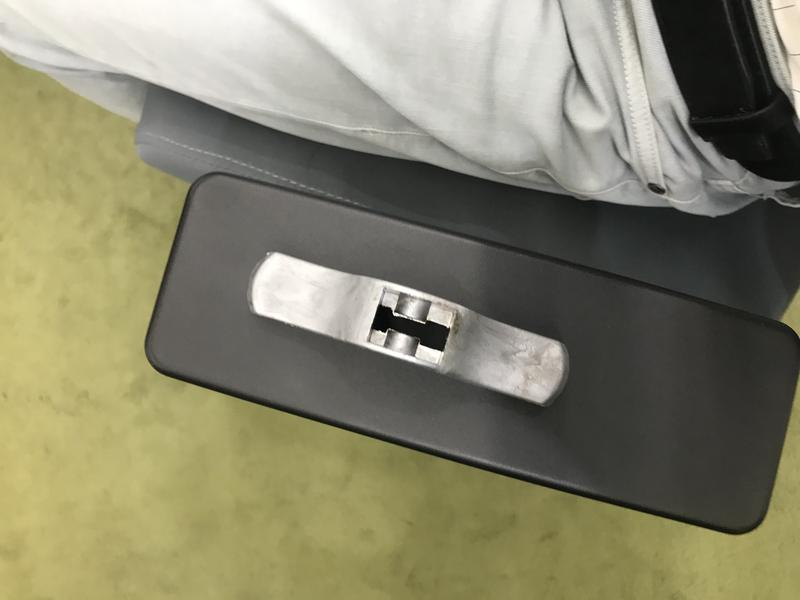zapchast: (243, 240, 578, 420)
